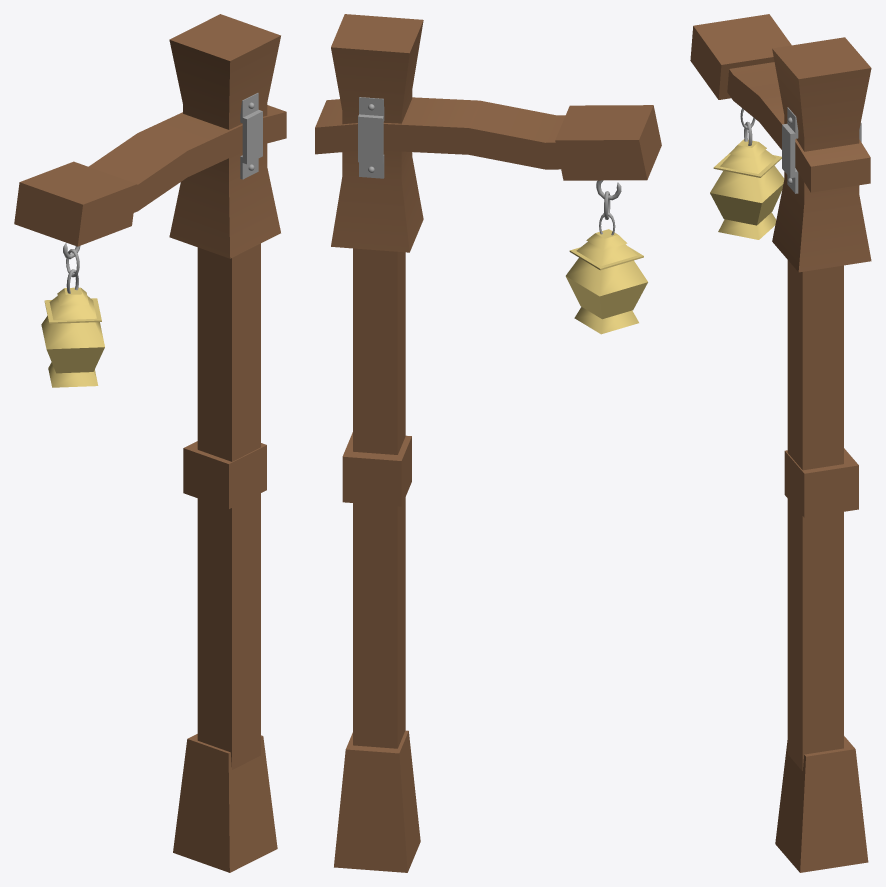
File: light.FBX
3 renders of one model, left to right at view 1: azimuth 30°, elevation 25°; view 2: azimuth 150°, elevation 25°; view 3: azimuth 270°, elevation 25°, orthographic. The views are drawn at different scales.
Parts seen in each view (by area): view 1: Box564, Box568, Box563, Box565, Box567, group1, Box566, Box569; view 2: Box564, Box568, Box565, Box563, Box567, group1, Box566, Box570; view 3: Box564, Box568, Box563, Box565, group1, Box567, Box566, Box569.
Boxes of the visible parts, x1=… form: Box564: x1=197, y1=243, x2=260, y2=769; Box568: x1=169, y1=14, x2=280, y2=258; Box563: x1=173, y1=734, x2=277, y2=872; Box565: x1=88, y1=105, x2=286, y2=212; Box567: x1=14, y1=161, x2=137, y2=246; group1: x1=41, y1=243, x2=104, y2=387; Box566: x1=183, y1=441, x2=266, y2=509; Box569: x1=240, y1=93, x2=262, y2=179; Box564: x1=353, y1=248, x2=405, y2=748; Box568: x1=331, y1=14, x2=423, y2=252; Box565: x1=315, y1=97, x2=565, y2=169; Box563: x1=334, y1=730, x2=420, y2=872; Box567: x1=555, y1=105, x2=661, y2=180; group1: x1=565, y1=180, x2=647, y2=334; Box566: x1=342, y1=432, x2=411, y2=506; Box570: x1=358, y1=97, x2=384, y2=178; Box564: x1=787, y1=260, x2=843, y2=770; Box568: x1=772, y1=37, x2=871, y2=272; Box563: x1=775, y1=736, x2=868, y2=872; Box565: x1=727, y1=62, x2=870, y2=192; group1: x1=710, y1=139, x2=784, y2=239; Box567: x1=690, y1=14, x2=791, y2=99; Box566: x1=784, y1=448, x2=858, y2=517; Box569: x1=782, y1=107, x2=798, y2=193.
Size of the model in its own units: 10.15 by 26.71 by 5.52.
